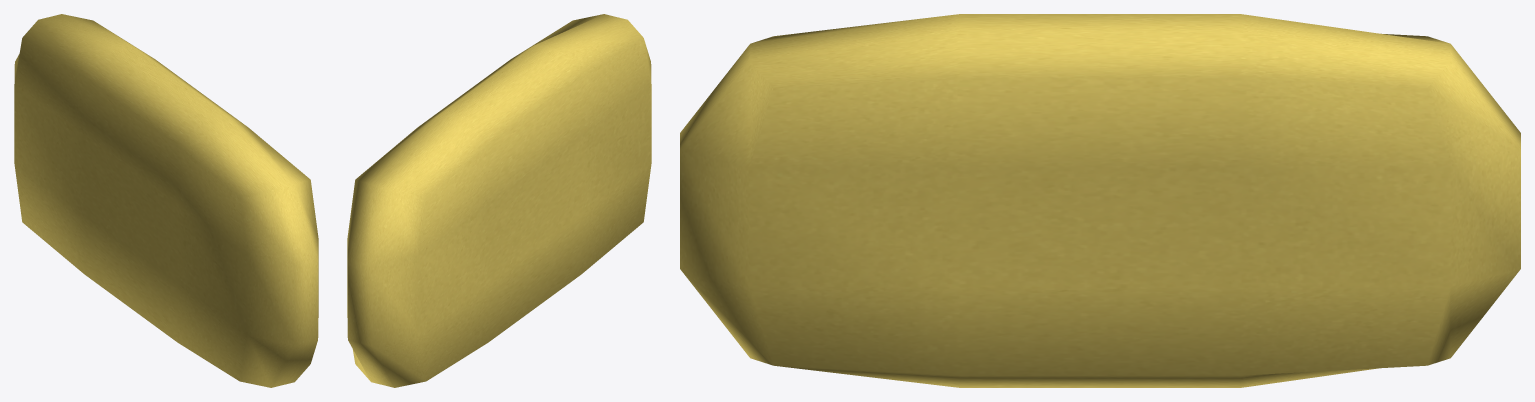
The model's file is Plaque.fbx.
3 views of the same model, side by side, from view 1: azimuth 30°, elevation 25°; view 2: azimuth 150°, elevation 25°; view 3: azimuth 270°, elevation 25° (orthographic). The views are drawn at different scales.
Visible parts, largest first — view 1: Cube; view 2: Cube; view 3: Cube.
Boxes of the visible parts, left/top/right/bottom form: Cube: left=14, top=14, right=318, bottom=387; Cube: left=347, top=14, right=651, bottom=387; Cube: left=680, top=14, right=1520, bottom=387.
Bounding box in the file's own units: 32.15 × 103 × 219.
